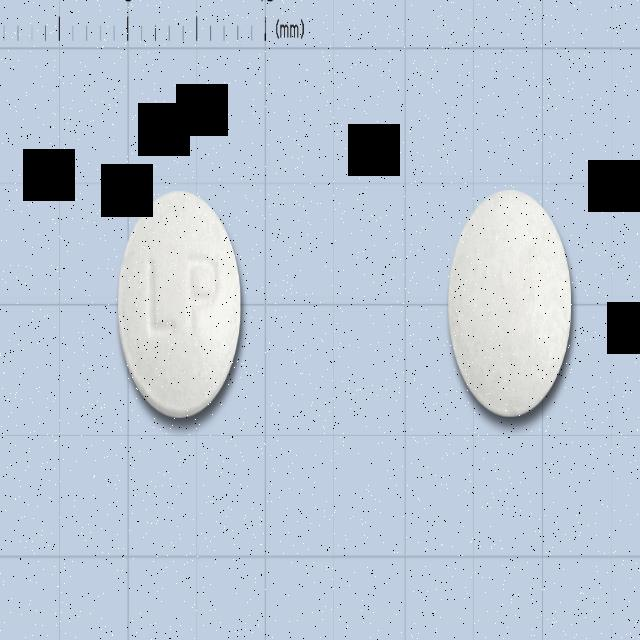Nofaxin Tab: (119, 189, 242, 420)
